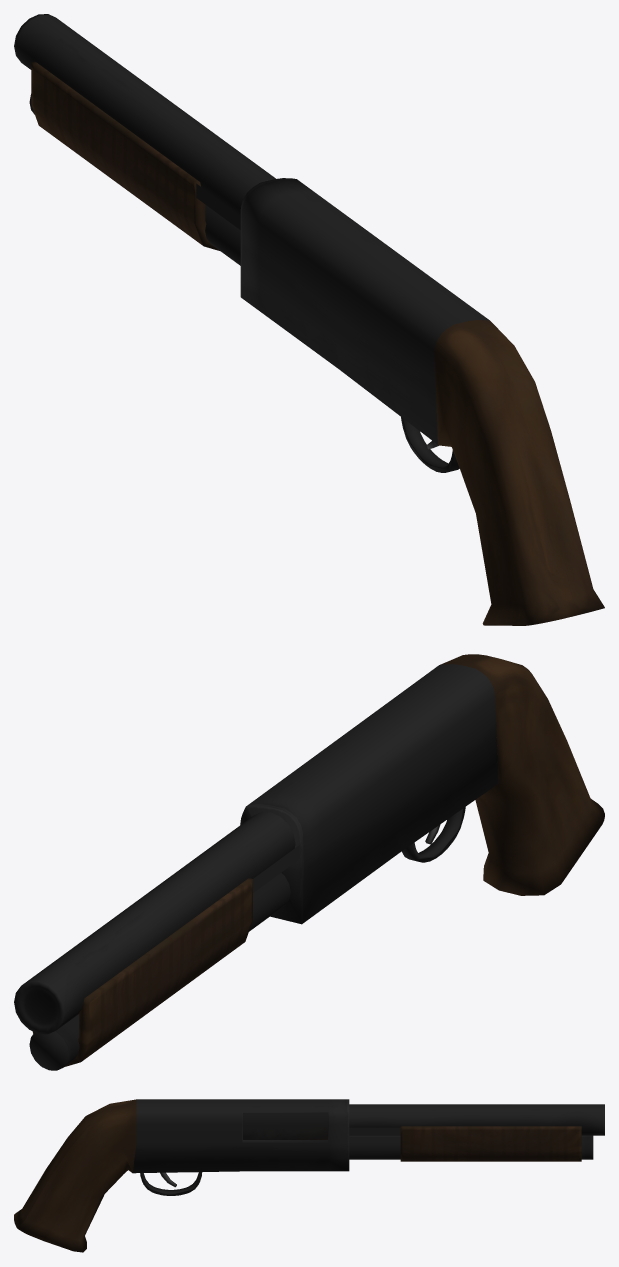
Rendered from SawedOff.obj.
3 renders of one model, top to bottom at view 1: azimuth 30°, elevation 25°; view 2: azimuth 150°, elevation 25°; view 3: azimuth 270°, elevation 25°, orthographic. The views are drawn at different scales.
Parts seen in each view (by area): view 1: SawedOff.004_SawedOff_mesh.010; view 2: SawedOff.004_SawedOff_mesh.010; view 3: SawedOff.004_SawedOff_mesh.010.
Part boxes in pixels (<box>): SawedOff.004_SawedOff_mesh.010: <box>14,14,604,625</box>; SawedOff.004_SawedOff_mesh.010: <box>14,654,604,1070</box>; SawedOff.004_SawedOff_mesh.010: <box>14,1099,604,1252</box>.
Bounding box in the file's own units: 0.0872 × 0.2806 × 1.05.
Materials: 1 (1 with a texture image).
